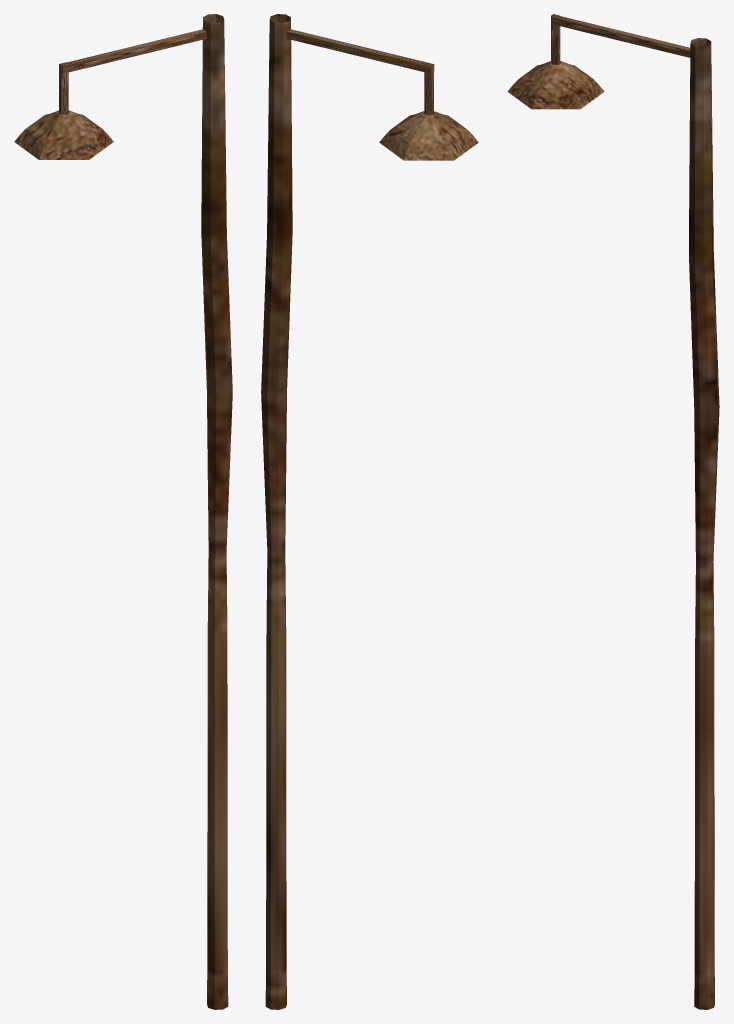
File: lampost2.fbx
The picture shows the model from 3 angles, left to right: view 1: azimuth 30°, elevation 25°; view 2: azimuth 150°, elevation 25°; view 3: azimuth 330°, elevation 25°; orthographic projection. The views are drawn at different scales.
Visible parts, largest first — view 1: Lamp Post; view 2: Lamp Post; view 3: Lamp Post.
Part boxes in pixels (x1,y1,x2,y2): Lamp Post: (14, 14, 232, 1009); Lamp Post: (261, 14, 478, 1009); Lamp Post: (507, 14, 719, 1009).
Size of the model in its own units: 98.81 by 456 by 41.76.
